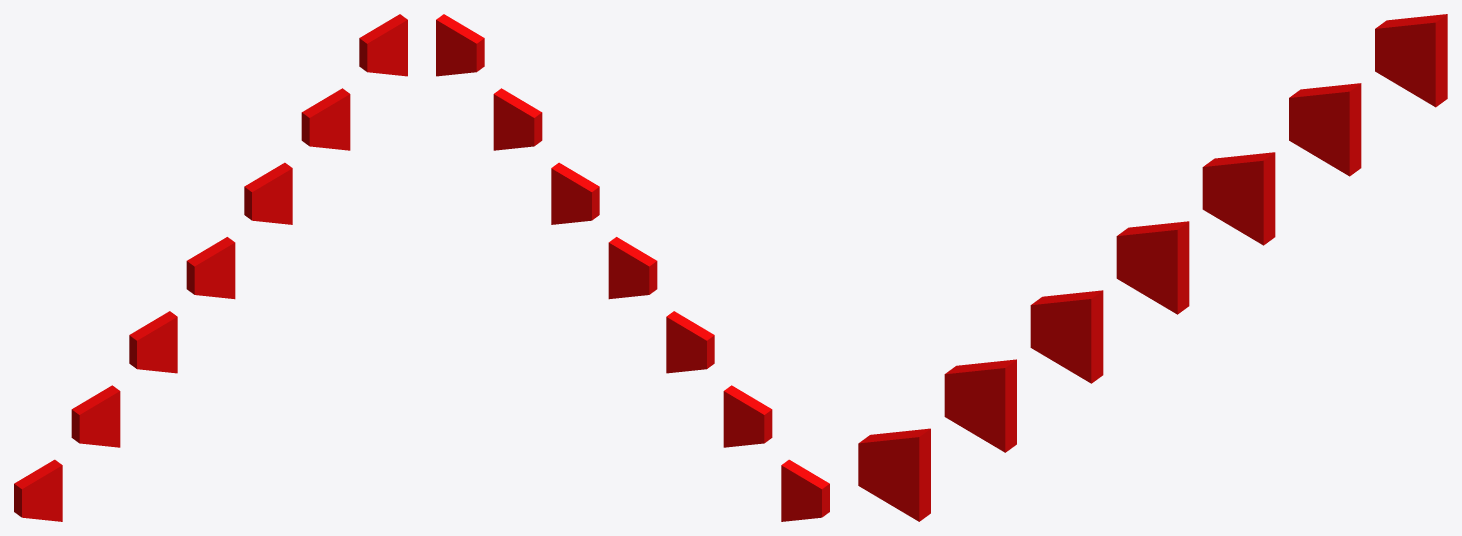
File: serial_test_example_fn_std-solid-appearance5_output.glb
The picture shows the model from 3 angles, left to right: view 1: azimuth 30°, elevation 25°; view 2: azimuth 150°, elevation 25°; view 3: azimuth 330°, elevation 25°; orthographic projection. The views are drawn at different scales.
Size of the model in its own units: 0.0285 by 0.0295 by 0.001.
